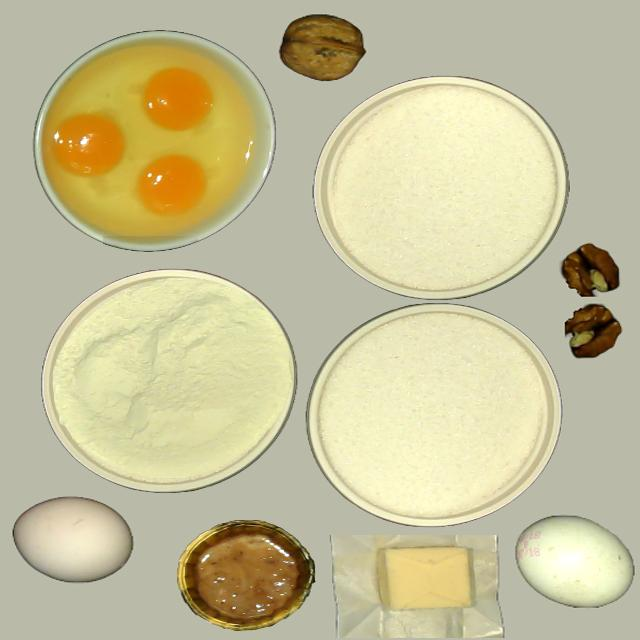Cocoa: (176, 518, 315, 630)
Egg: (40, 41, 255, 238)
Flour: (49, 274, 294, 485), (316, 311, 548, 518)
Milk: (326, 83, 558, 291)
Walnut: (279, 13, 365, 80), (561, 242, 619, 297), (564, 303, 621, 357)
